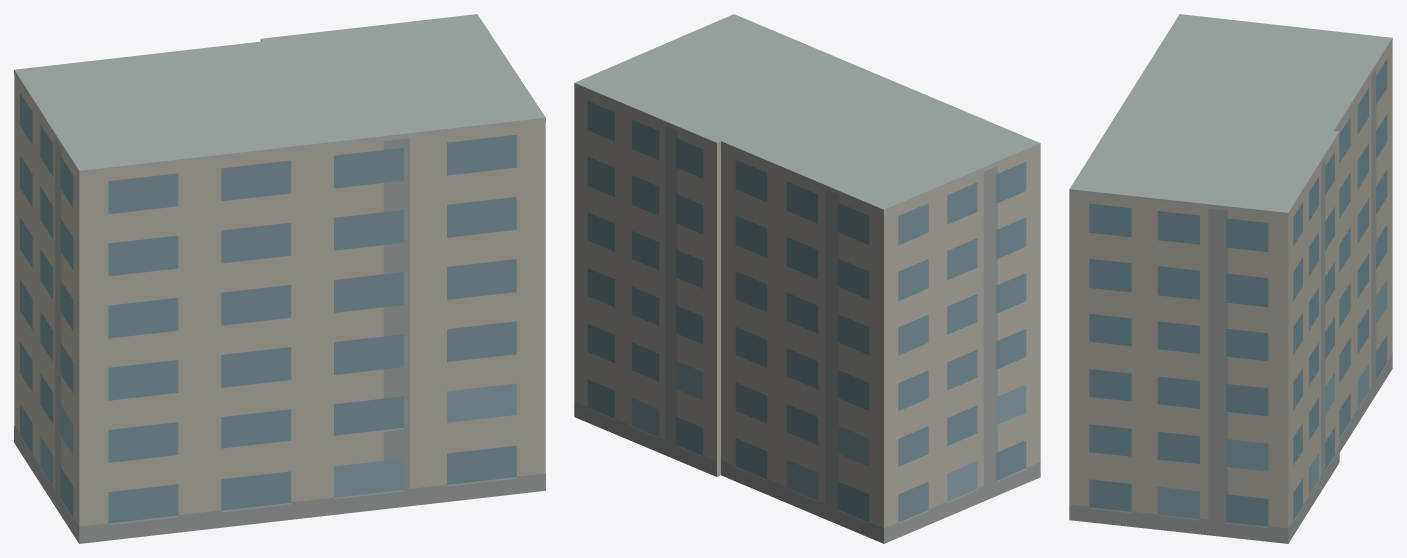
The model's file is survey-upis-32803379.glb.
3 renders of one model, left to right at view 1: azimuth 30°, elevation 25°; view 2: azimuth 150°, elevation 25°; view 3: azimuth 270°, elevation 25°, orthographic. The views are drawn at different scales.
Parts seen in each view (by area): view 1: survey-upis-32803379.tmp; view 2: survey-upis-32803379.tmp; view 3: survey-upis-32803379.tmp.
Boxes of the visible parts, x1,y1,x2,y2 form: survey-upis-32803379.tmp: (14, 14, 545, 543); survey-upis-32803379.tmp: (574, 14, 1040, 543); survey-upis-32803379.tmp: (1069, 14, 1392, 543).
Size of the model in its own units: 23.59 by 18.3 by 16.2.
